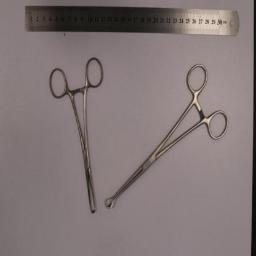Allis Tissue Forceps: (48, 57, 104, 213)
